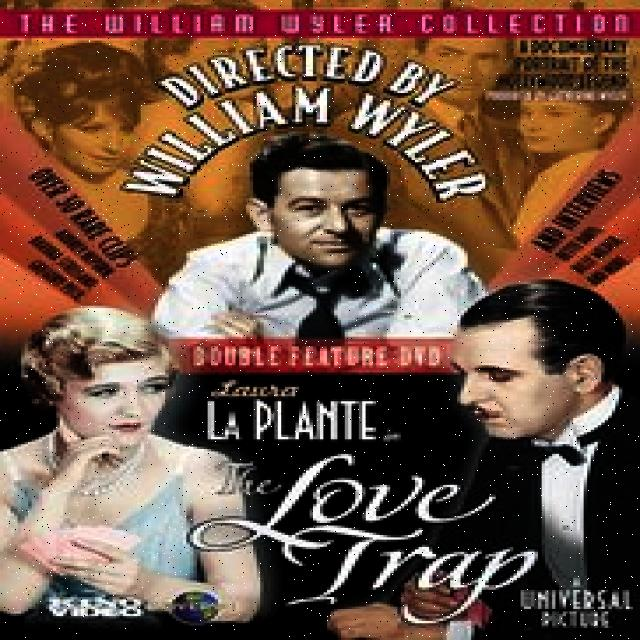movie-judul: (188, 382, 538, 610)
picture: (459, 280, 640, 610), (197, 144, 463, 339), (20, 302, 185, 614)
